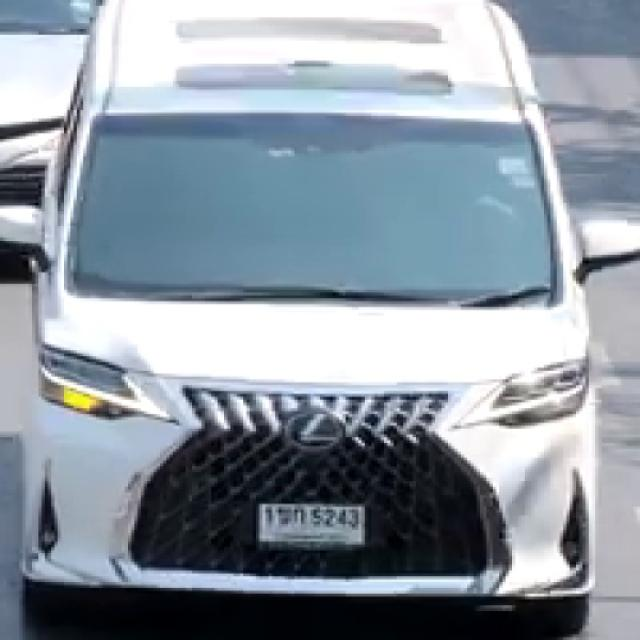plate: (258, 501, 368, 549)
